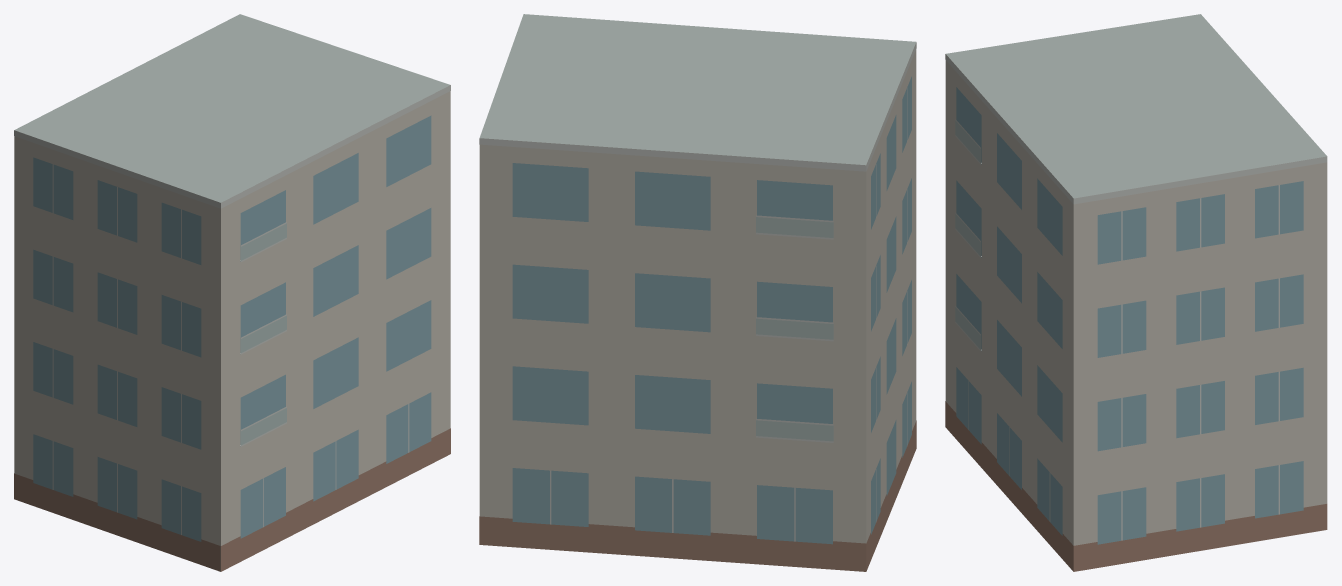
The model's file is survey-upis-32866891.glb.
The picture shows the model from 3 angles, left to right: view 1: azimuth 30°, elevation 25°; view 2: azimuth 150°, elevation 25°; view 3: azimuth 270°, elevation 25°; orthographic projection. The views are drawn at different scales.
Parts seen in each view (by area): view 1: survey-upis-32866891.tmp; view 2: survey-upis-32866891.tmp; view 3: survey-upis-32866891.tmp.
Boxes of the visible parts, x1,y1,x2,y2 form: survey-upis-32866891.tmp: (14, 14, 450, 571); survey-upis-32866891.tmp: (479, 14, 916, 571); survey-upis-32866891.tmp: (945, 14, 1327, 571).
Bounding box in the file's own units: 16.26 × 15.33 × 14.22.
